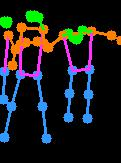normal: (50, 22, 121, 131)
